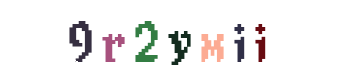2: (109, 0, 189, 80)
9: (76, 0, 156, 80)
I: (163, 0, 243, 80), (221, 0, 301, 80)
M: (133, 0, 213, 80)
R: (107, 0, 187, 80)
Y: (121, 0, 201, 80)
